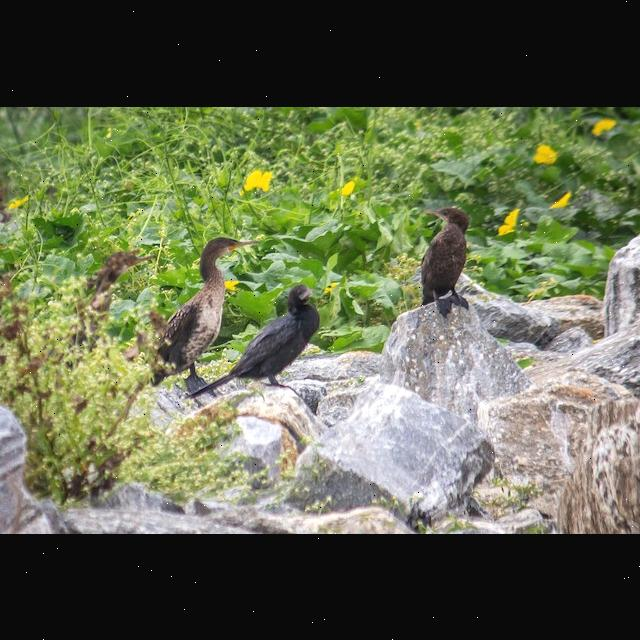cormorant: (142, 230, 264, 384), (234, 278, 330, 384), (64, 244, 154, 344), (421, 202, 473, 314)
